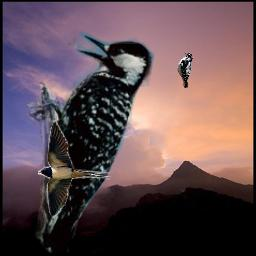Swallow: (38, 120, 111, 219)
Woodpecker: (27, 31, 158, 253), (177, 52, 194, 88)
